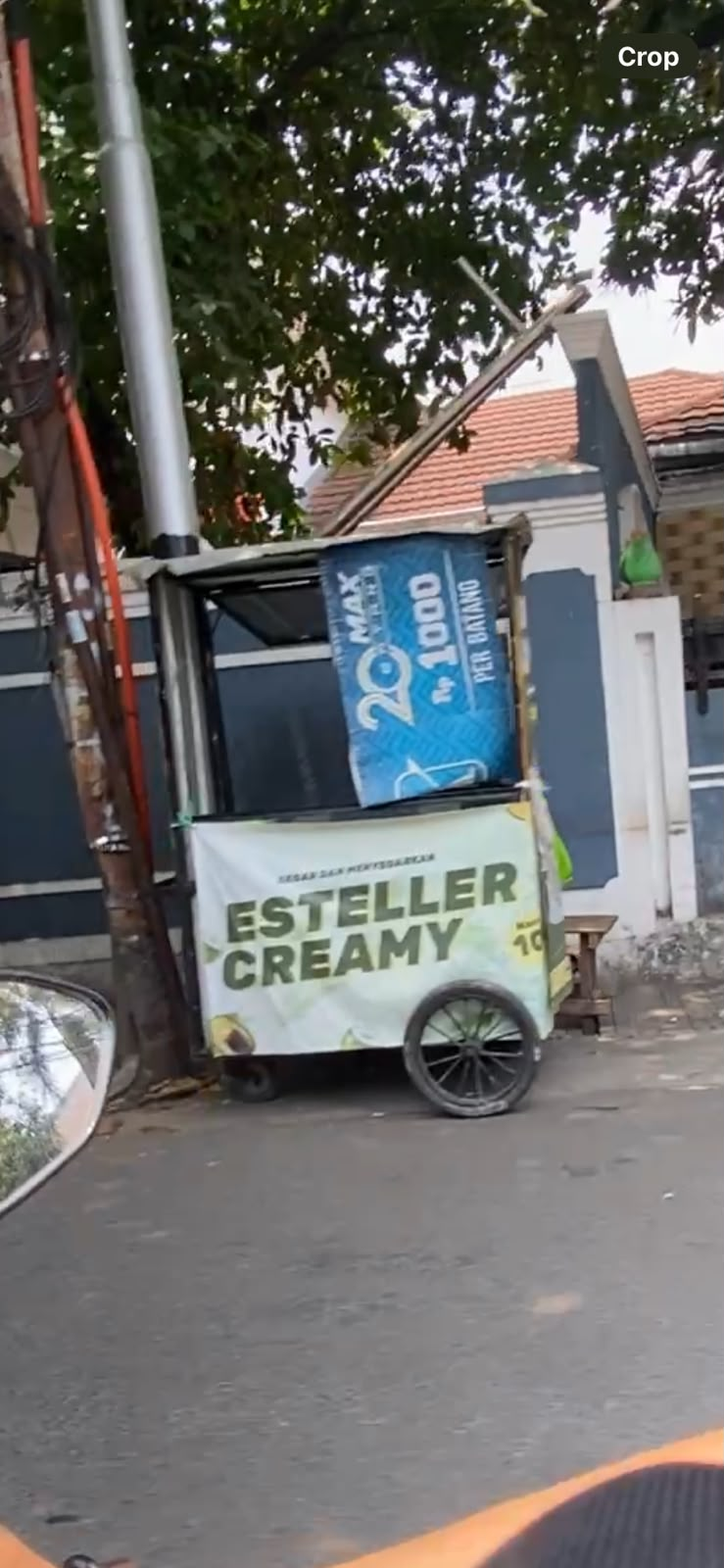gerobak: (118, 518, 578, 1114)
